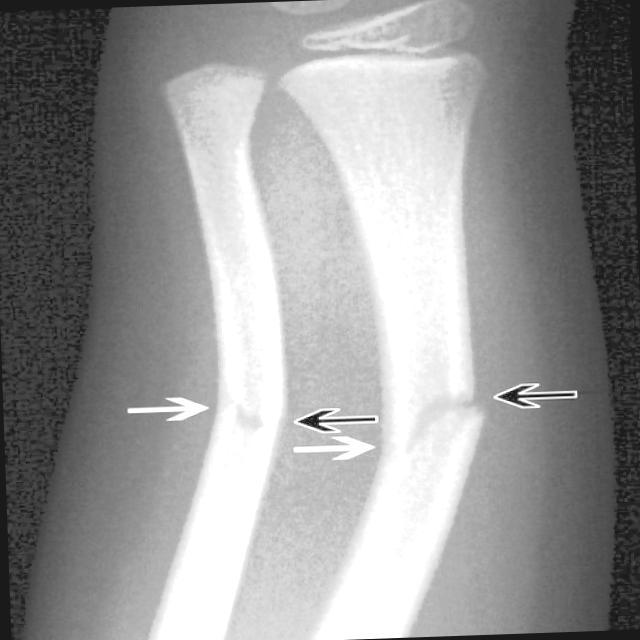GreenStick Fracture: (400, 384, 485, 448), (226, 386, 270, 446)
